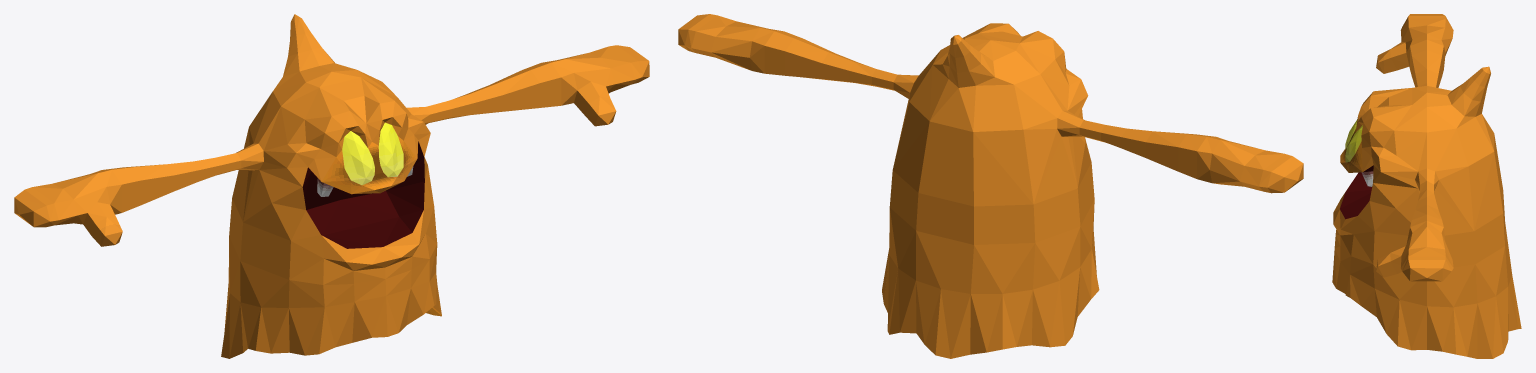
File: Gold Ghost.obj
3 renders of one model, left to right at view 1: azimuth 30°, elevation 25°; view 2: azimuth 150°, elevation 25°; view 3: azimuth 270°, elevation 25°, orthographic. The views are drawn at different scales.
Parts seen in each view (by area): view 1: shape0_material0; view 2: shape0_material0; view 3: shape0_material0.
Boxes of the visible parts, box(x1,y1,x2,y2) form: shape0_material0: box(14, 14, 649, 358); shape0_material0: box(678, 14, 1303, 358); shape0_material0: box(1332, 14, 1521, 358).
Size of the model in its own units: 3.43 by 1.65 by 1.07.
